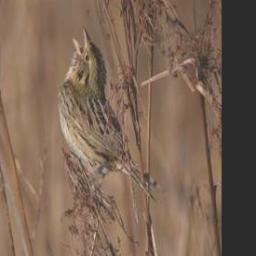Sparrow: (57, 25, 168, 204)
